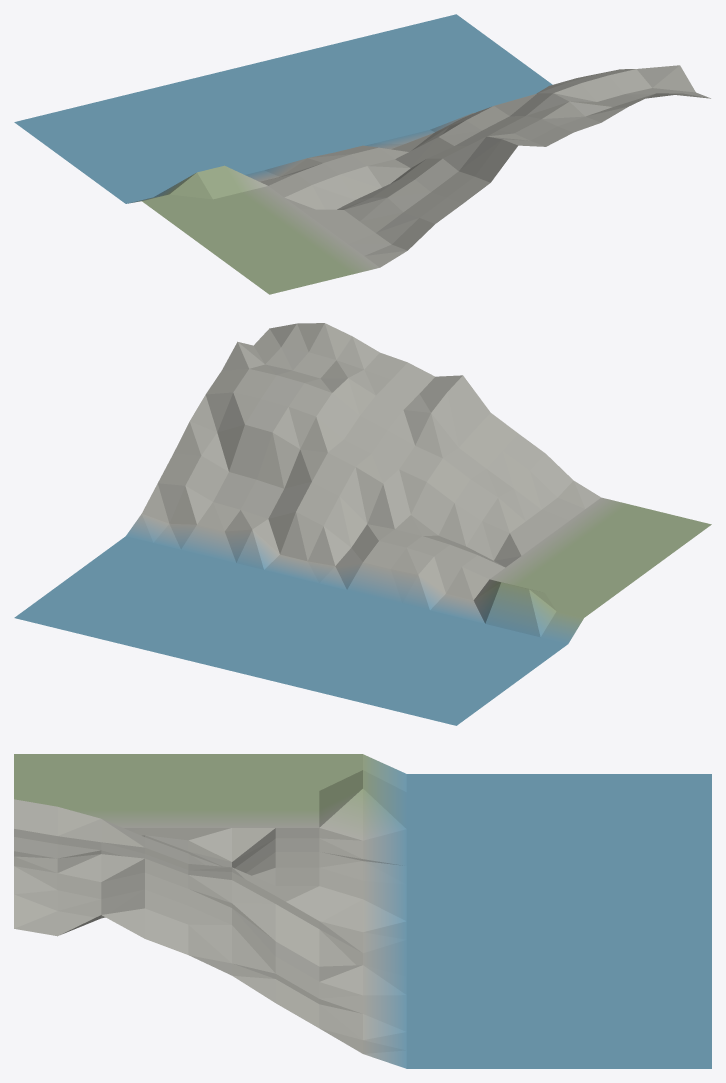
The picture shows the model from 3 angles, top to bottom: view 1: azimuth 30°, elevation 25°; view 2: azimuth 150°, elevation 25°; view 3: azimuth 270°, elevation 25°; orthographic projection. The views are drawn at different scales.
Size of the model in its own units: 32 by 8.39 by 32.
